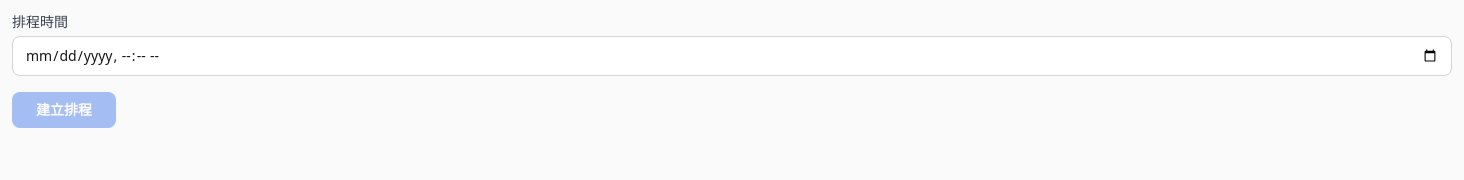
Scenario: ScheduleForm — 排程發文表單 › shows error message on failure
Type "2026-07-01T09:00" into the field labelled "排程時間" at (732, 56), box [12,36,1452,76]
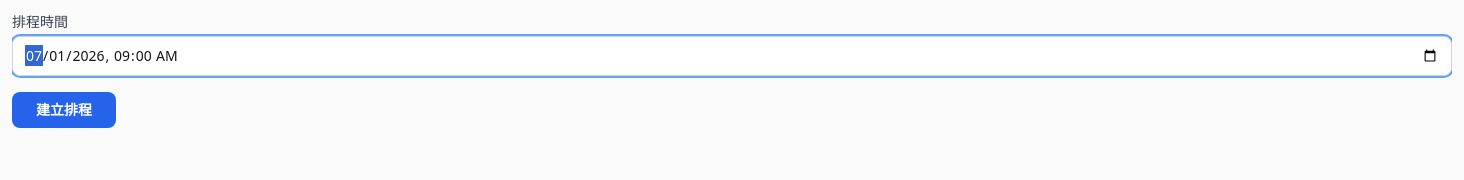
Click the button "建立排程" at (64, 110), box [12,92,116,128]
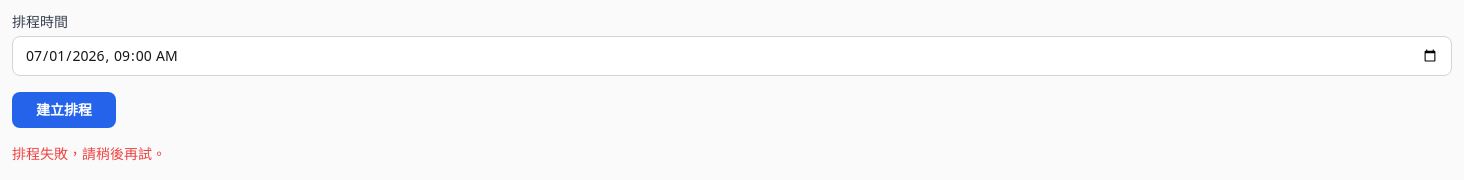
Expected: the text "排程失敗，請稍後再試。" is shown, [12,144,166,163]
